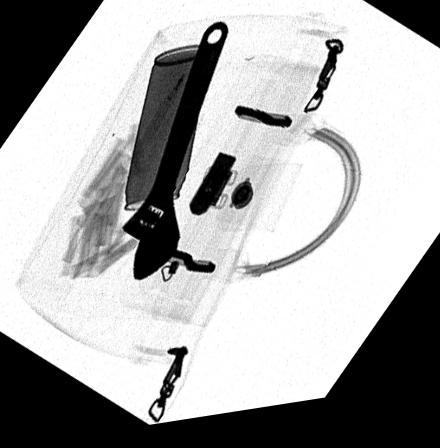Wrench: (120, 27, 227, 286)
